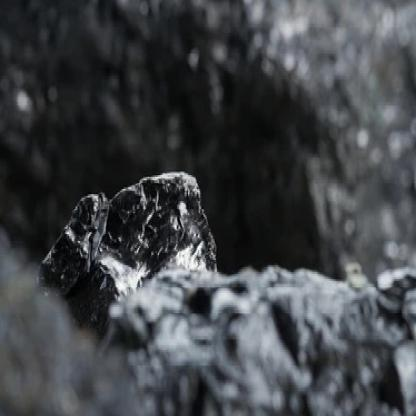Sedimentary_coal: (38, 158, 229, 376)
